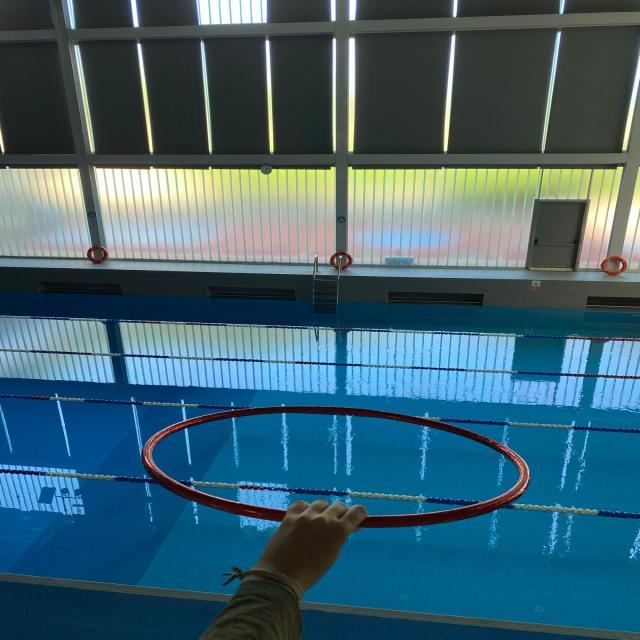Circle: (138, 404, 532, 530)
